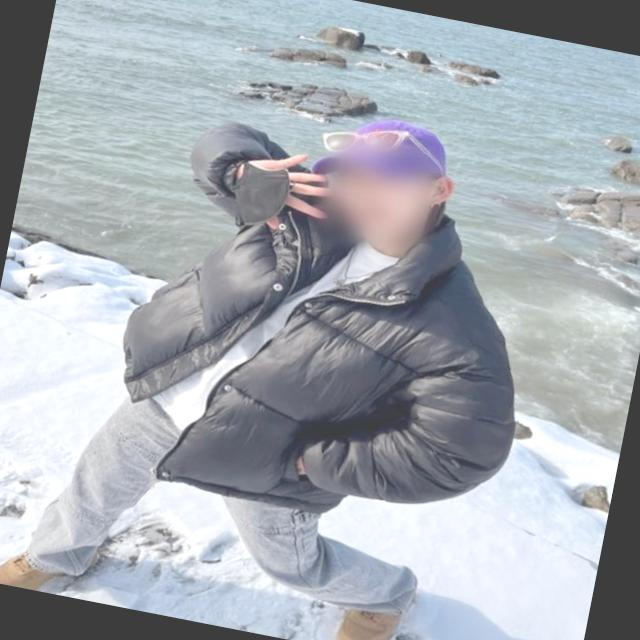denimpants: (20, 372, 448, 639)
padding: (96, 106, 564, 549)
